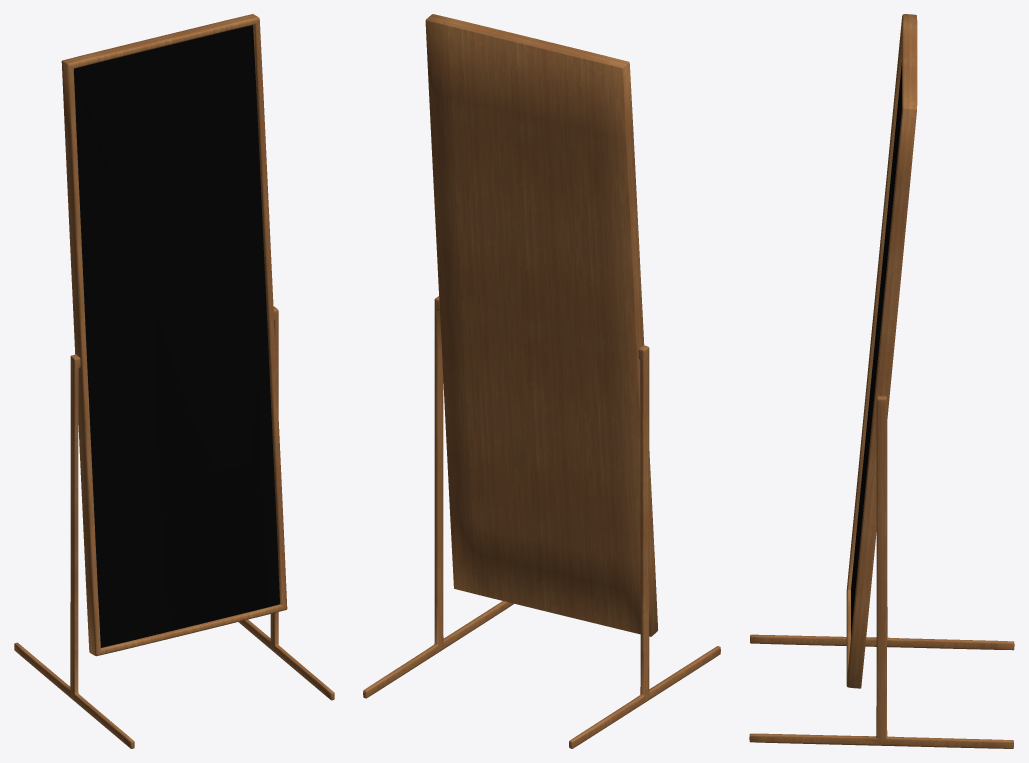
File: MirrorOBJ.obj
3 renders of one model, left to right at view 1: azimuth 30°, elevation 25°; view 2: azimuth 150°, elevation 25°; view 3: azimuth 270°, elevation 25°, orthographic. The views are drawn at different scales.
Parts seen in each view (by area): view 1: Box008, Box007, Box009; view 2: Box007, Box009; view 3: Box007, Box009, Box008.
Boxes of the visible parts, x1,y1,x2,y2 form: Box008: [74, 25, 279, 647]; Box007: [61, 14, 287, 656]; Box009: [14, 306, 334, 748]; Box007: [425, 14, 657, 636]; Box009: [363, 296, 720, 748]; Box007: [846, 14, 917, 688]; Box009: [749, 396, 1014, 748]; Box008: [851, 63, 901, 635].
Size of the model in its own units: 60.55 by 167 by 63.16.
Materials: 2 (2 with a texture image).
